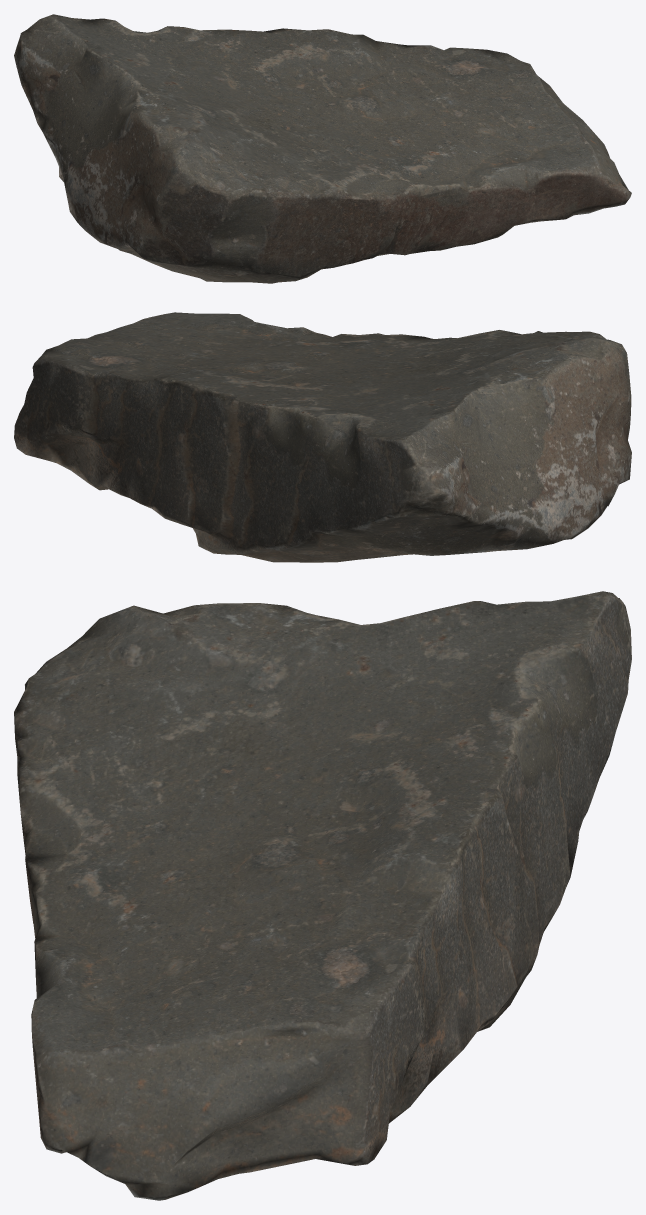
The model's file is SM_wfynbjq_tier_2.gltf.
The picture shows the model from 3 angles, top to bottom: view 1: azimuth 30°, elevation 25°; view 2: azimuth 150°, elevation 25°; view 3: azimuth 270°, elevation 25°; orthographic projection. The views are drawn at different scales.
Parts seen in each view (by area): view 1: wfynbjq_LOD2_TIER2_000; view 2: wfynbjq_LOD2_TIER2_000; view 3: wfynbjq_LOD2_TIER2_000.
Part boxes in pixels (x1,y1,x2,y2): wfynbjq_LOD2_TIER2_000: (14, 14, 631, 283); wfynbjq_LOD2_TIER2_000: (14, 312, 631, 562); wfynbjq_LOD2_TIER2_000: (14, 591, 631, 1200).
Size of the model in its own units: 0.207 by 0.0756 by 0.1438.
Materials: 1 (1 with a texture image).
